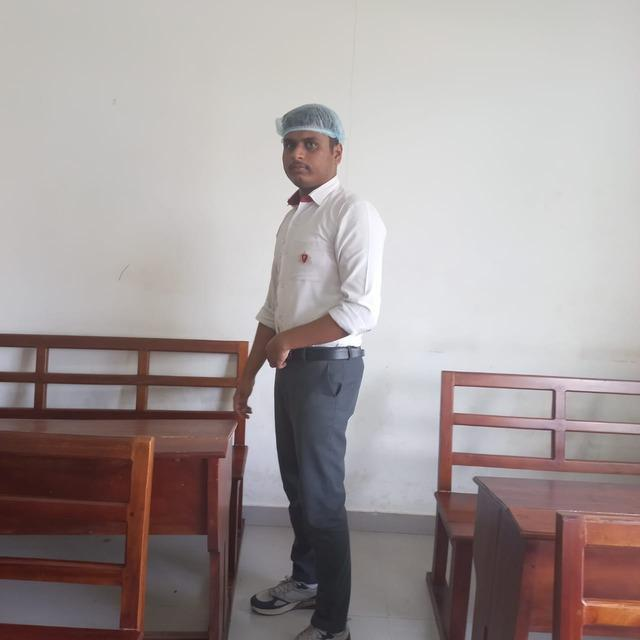bare_hand: (232, 374, 259, 419), (267, 330, 295, 372)
